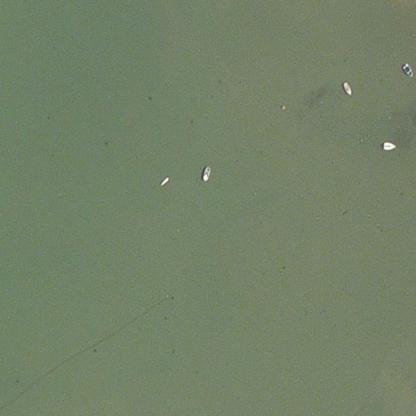ship: (334, 78, 357, 101), (374, 136, 400, 154), (397, 56, 415, 81), (198, 161, 214, 184), (153, 172, 174, 188)
